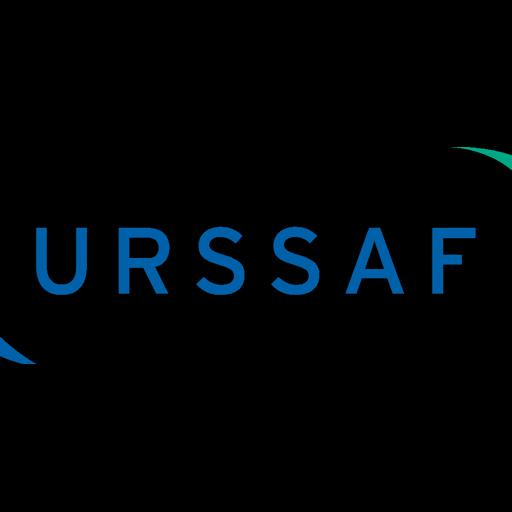URSSAF: (0, 147, 512, 364)
